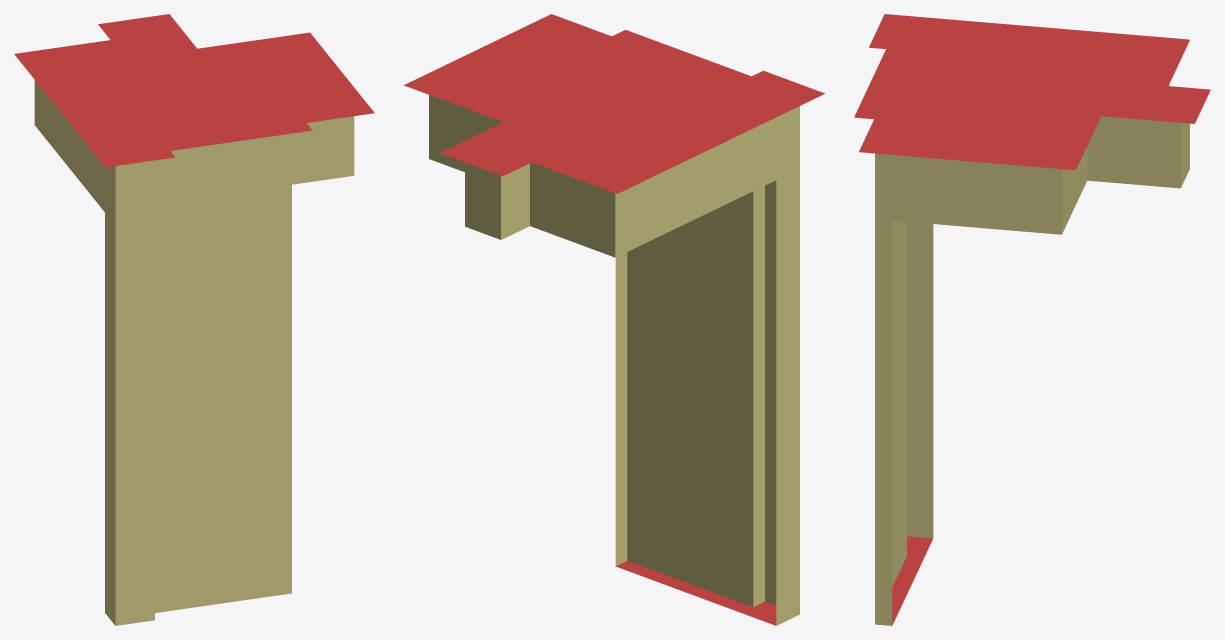
The picture shows the model from 3 angles, left to right: view 1: azimuth 30°, elevation 25°; view 2: azimuth 150°, elevation 25°; view 3: azimuth 270°, elevation 25°; orthographic projection. The views are drawn at different scales.
Parts seen in each view (by area): view 1: group_5, group_3, group_4; view 2: group_5, group_3, group_4, group_6; view 3: group_5, group_3, group_4, group_6.
Part boxes in pixels (bbox=[...]): group_5: bbox=[34, 80, 354, 625]; group_3: bbox=[14, 14, 374, 167]; group_4: bbox=[14, 15, 374, 167]; group_5: bbox=[429, 95, 799, 625]; group_3: bbox=[404, 14, 824, 193]; group_4: bbox=[406, 14, 823, 193]; group_6: bbox=[616, 560, 776, 625]; group_5: bbox=[875, 85, 1189, 625]; group_3: bbox=[854, 14, 1210, 170]; group_4: bbox=[854, 14, 1210, 169]; group_6: bbox=[892, 536, 932, 625].
Bounding box in the file's own units: 10.41 × 10.04 × 15.92.
